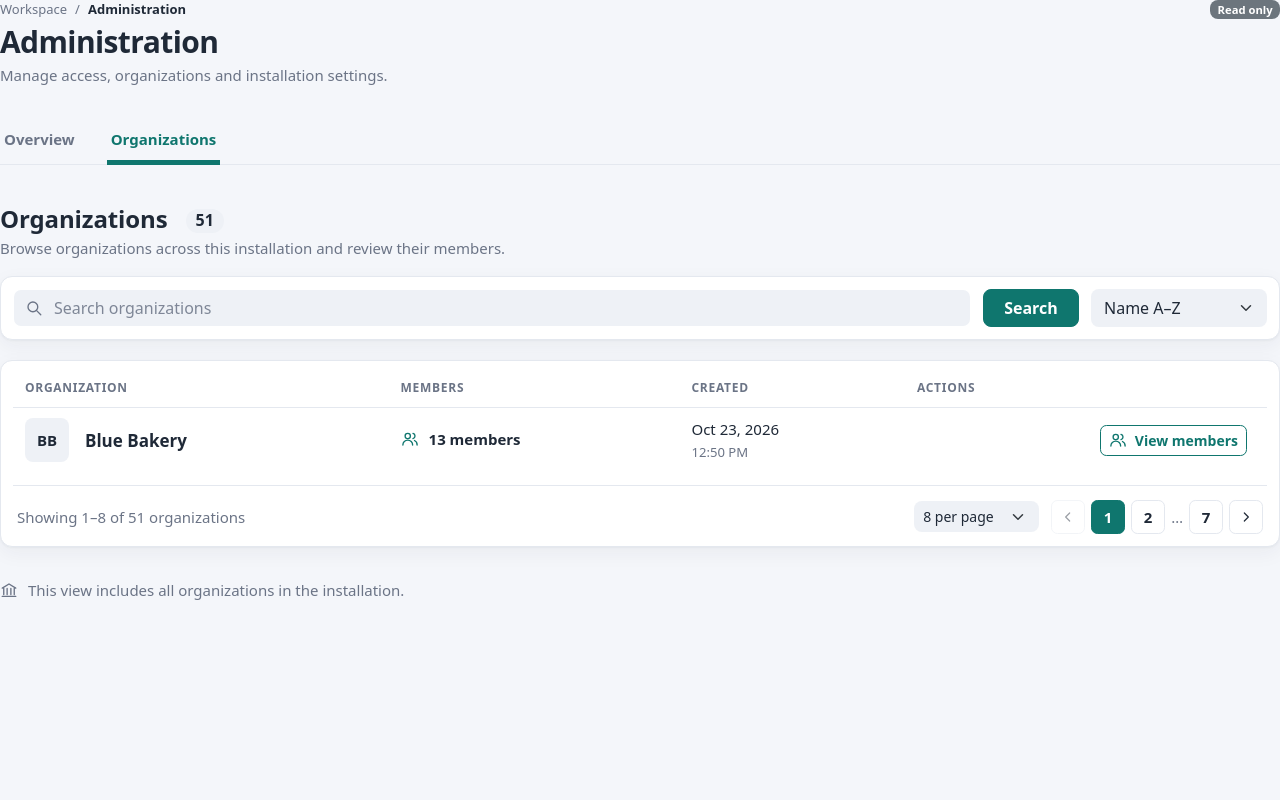
Scenario: AdminPage › lists organizations with members and shows them in a side panel
This screenshot has width=1280, height=800.
Expected: the heading "Organizations 51" is shown, [0,202,224,234]
Expected: the text "13 members" is shown, [400,428,520,450]
Click the button with aria-label "View members of Blue Bakery" at (1173,440), box [1100,425,1247,456]
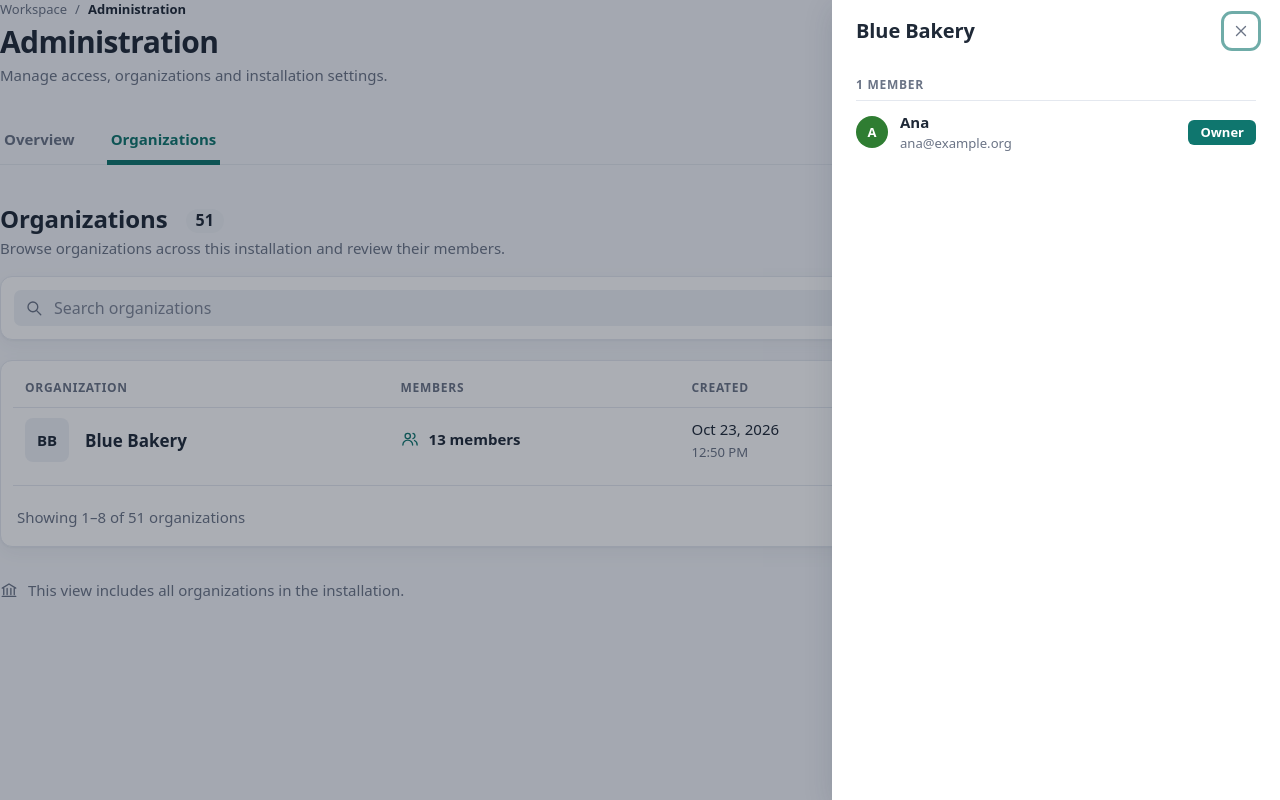
Now the text "ana@example.org" is shown, box [900,134,1012,152]
Now the text "Owner" is shown, box [1188,120,1256,145]
Press Escape
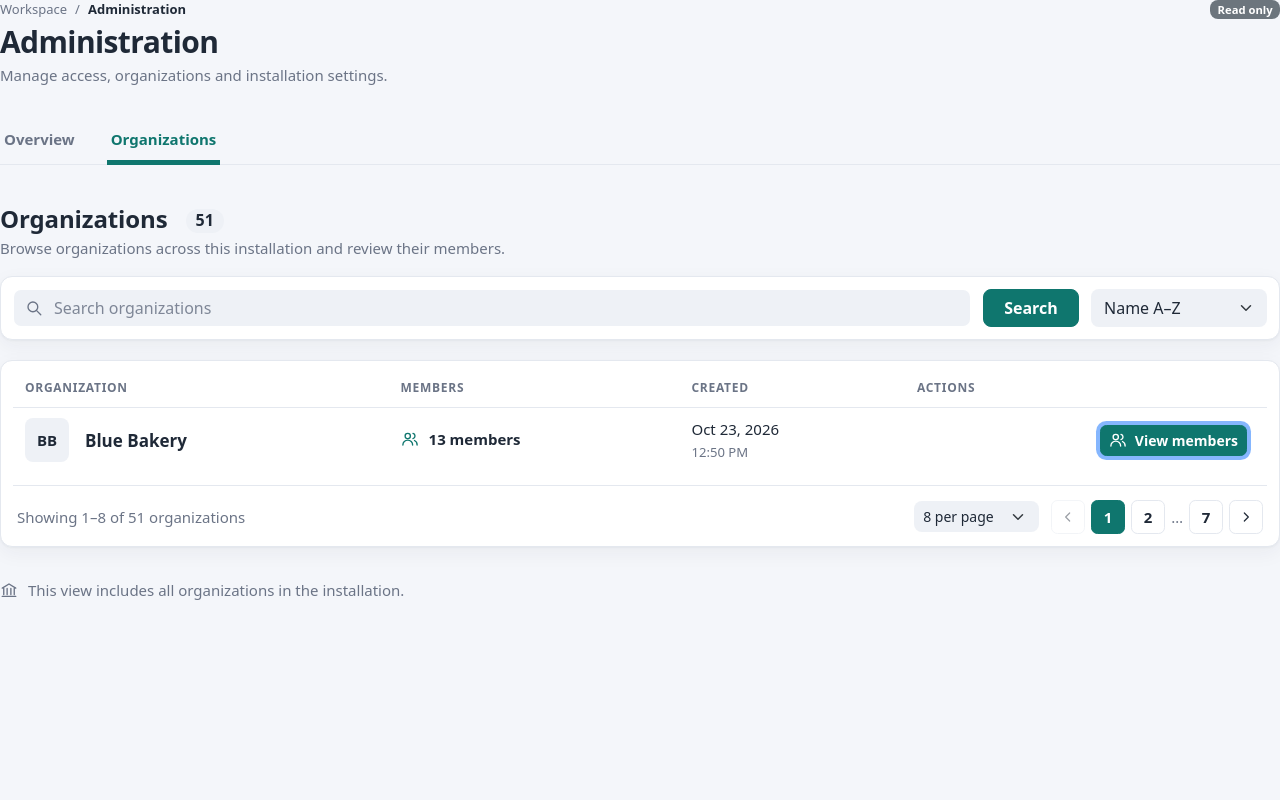
Select "Most members" in the 1st dropdown named "Sort" at (1179,308), box [1091,289,1267,327]
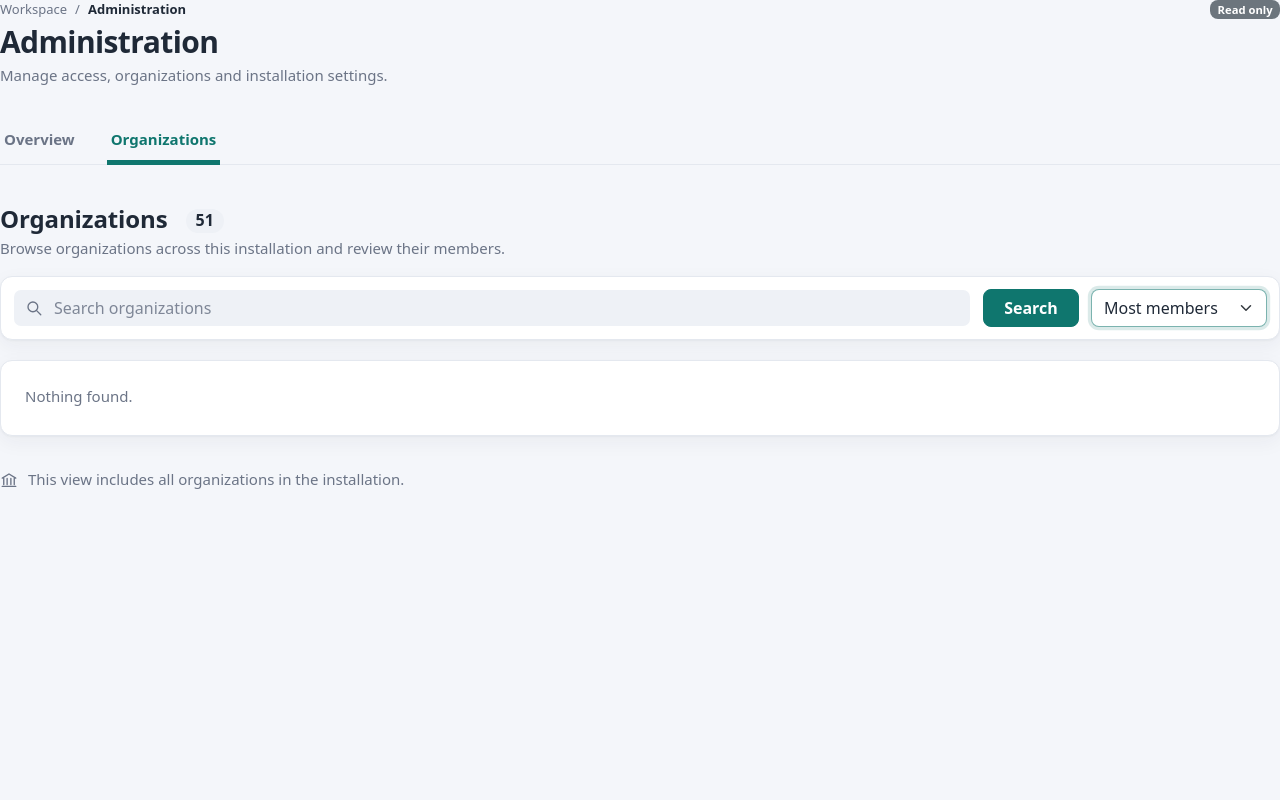
Now the text "Nothing found." is shown, box [25,386,132,406]
